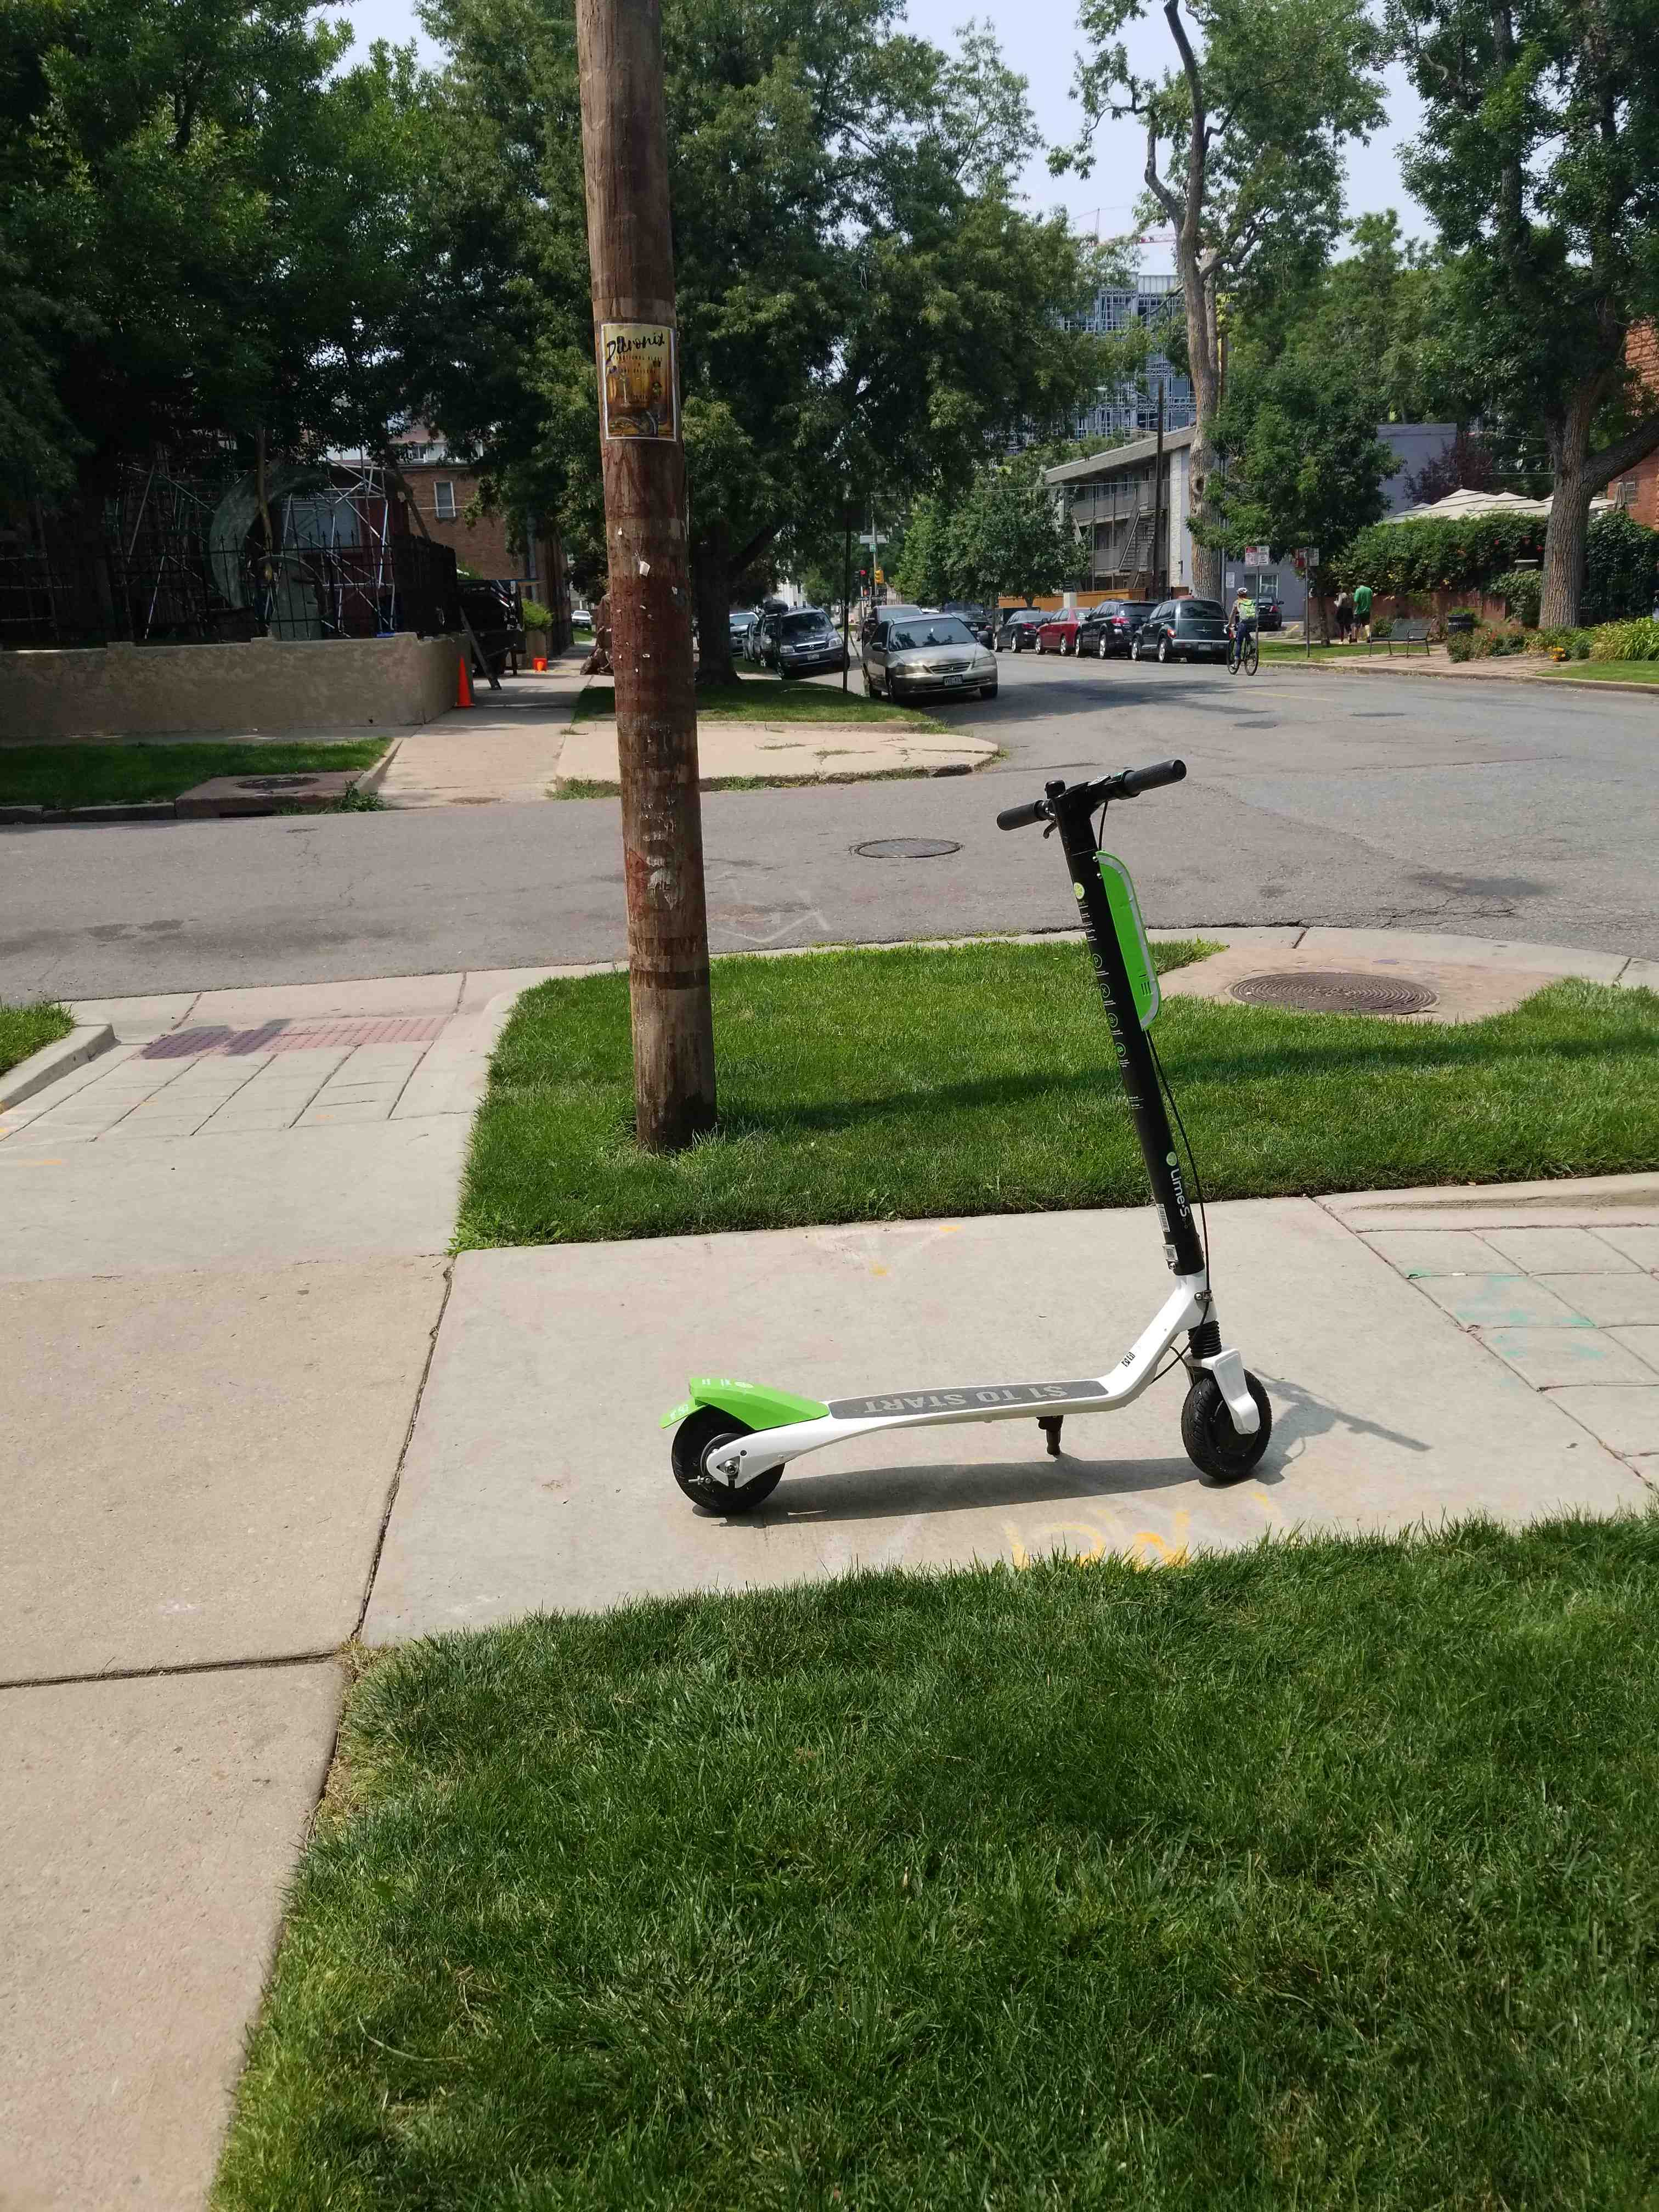scooter: (660, 730, 1298, 1547)
